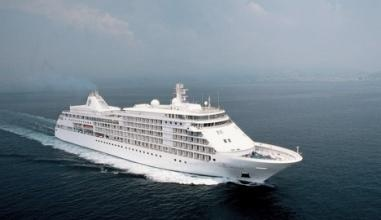youlun: (46, 82, 301, 185)
